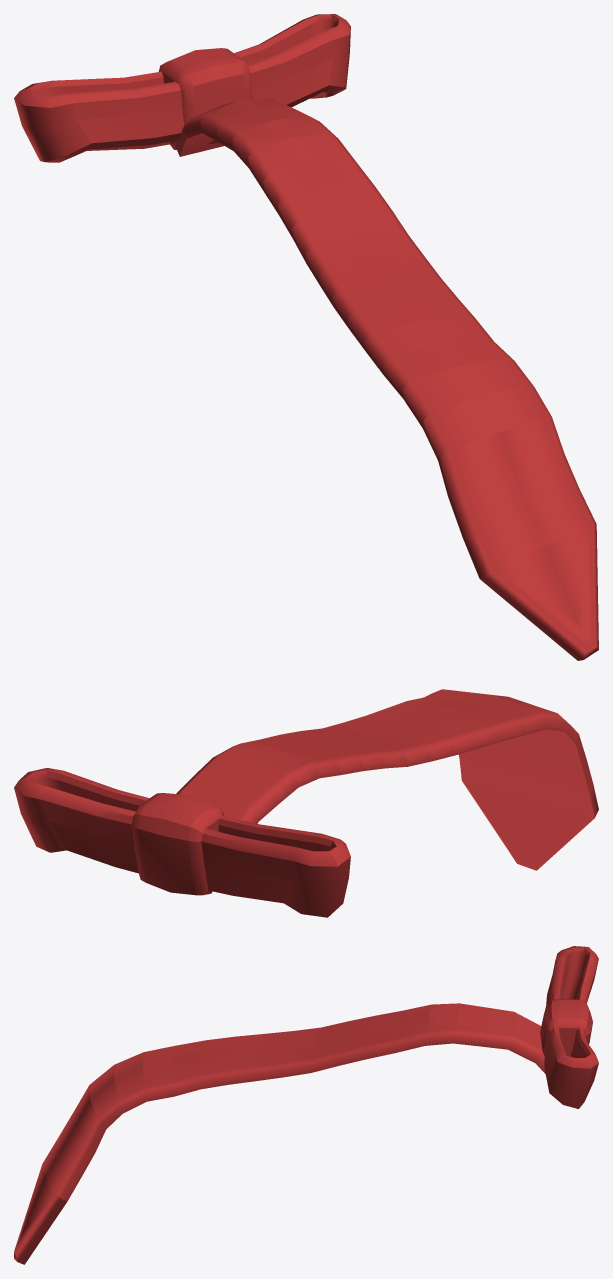
Rendered from wornTieFBX.fbx.
The picture shows the model from 3 angles, top to bottom: view 1: azimuth 30°, elevation 25°; view 2: azimuth 150°, elevation 25°; view 3: azimuth 270°, elevation 25°; orthographic projection. The views are drawn at different scales.
Visible parts, largest first — view 1: wornTie; view 2: wornTie; view 3: wornTie.
Part boxes in pixels (<box>): wornTie: <box>14,14,598,660</box>; wornTie: <box>14,689,598,917</box>; wornTie: <box>14,946,598,1264</box>.
Size of the model in its own units: 1.96 by 1.95 by 4.09.
